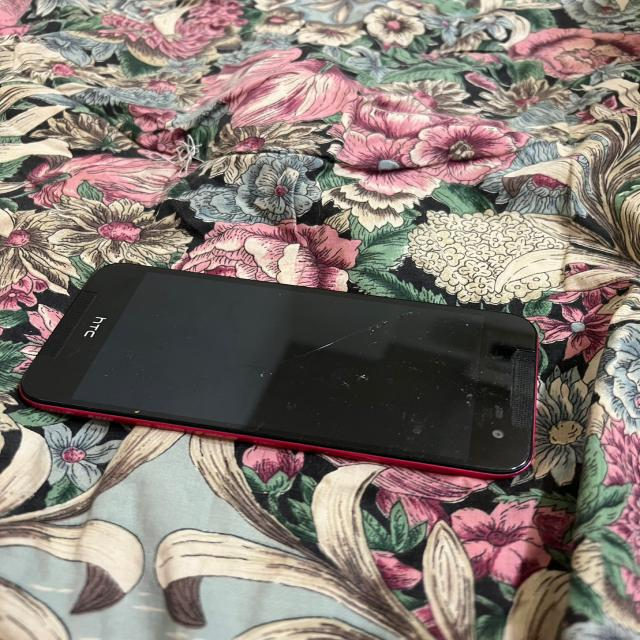Smartphone: (18, 264, 540, 479)
